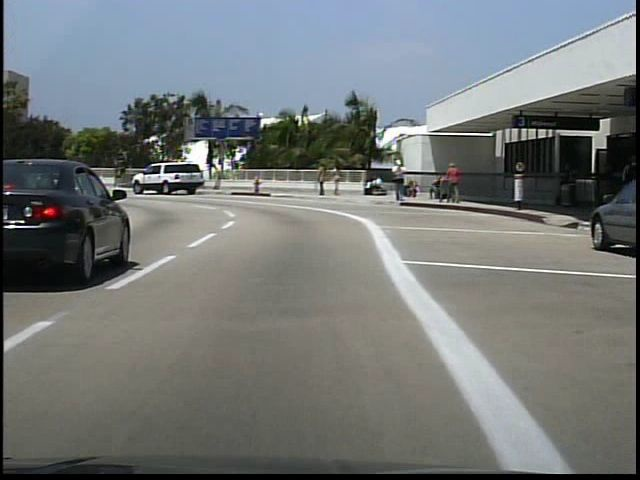person: (606, 152, 638, 226), (393, 157, 409, 207), (447, 160, 464, 203), (333, 162, 346, 200), (318, 160, 330, 197), (364, 177, 385, 197)
